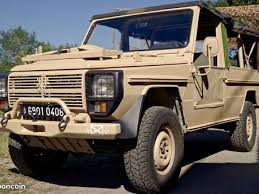license_plate: (20, 104, 67, 119)
